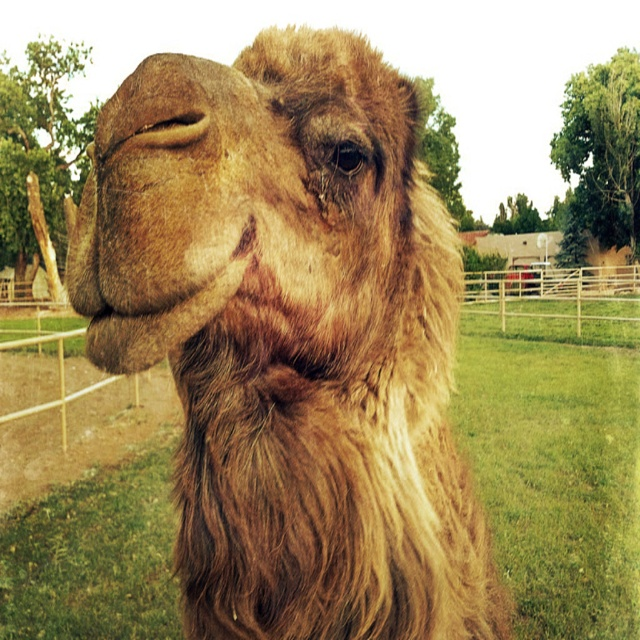Camel: (59, 24, 517, 640)
